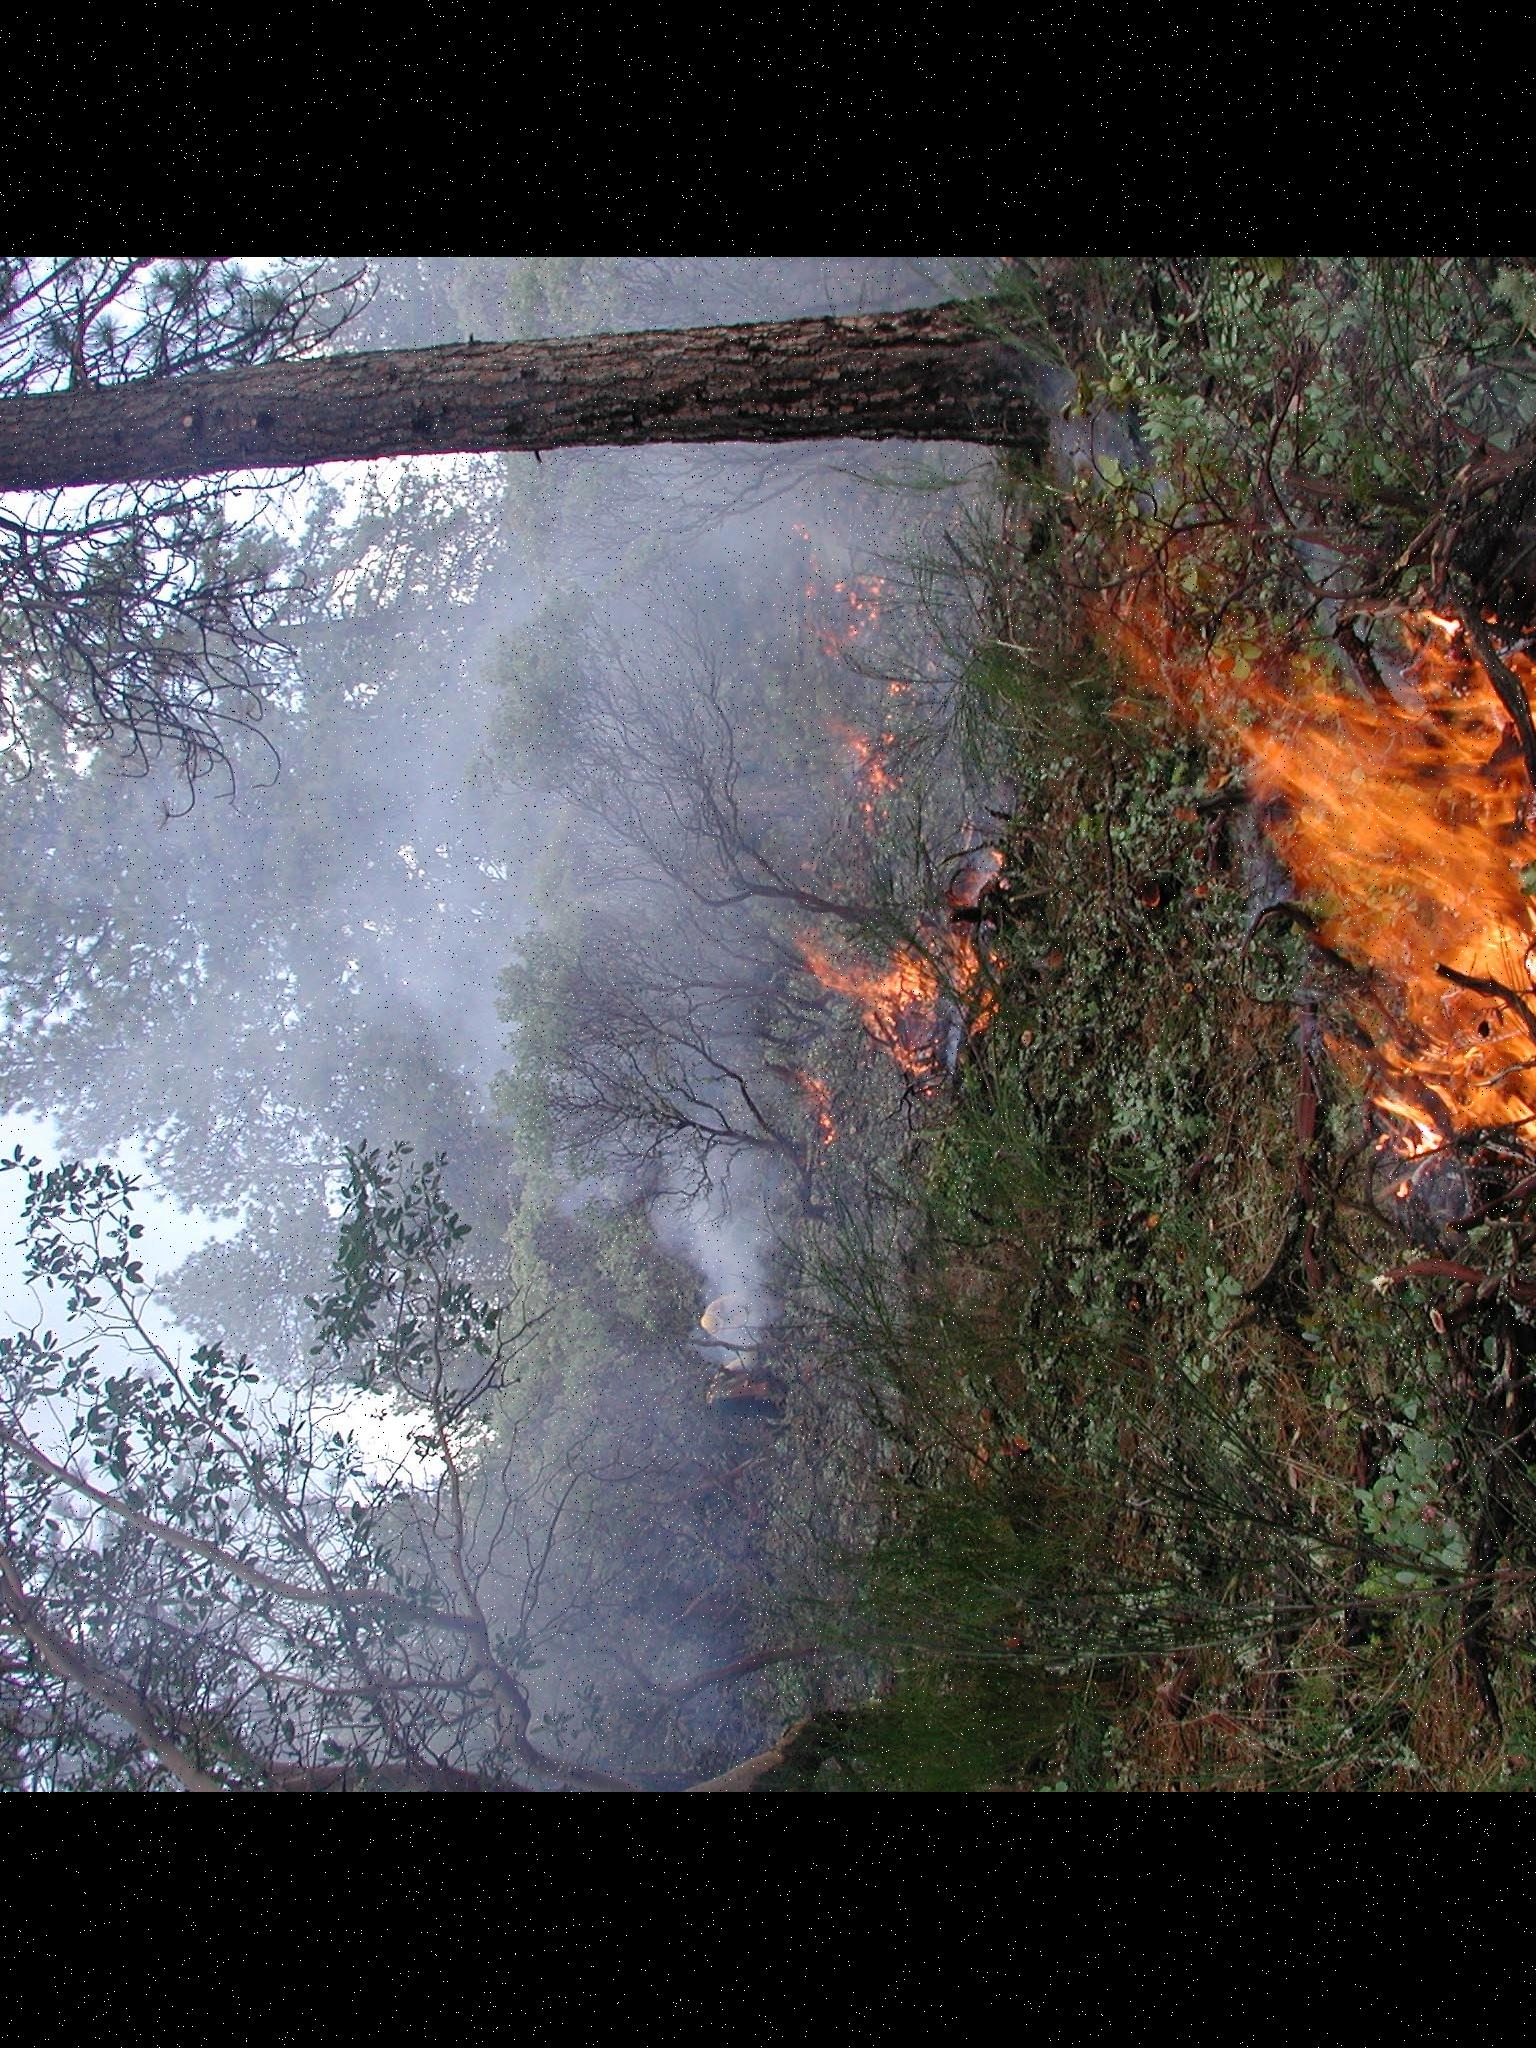fire: (984, 432, 1536, 1392)
